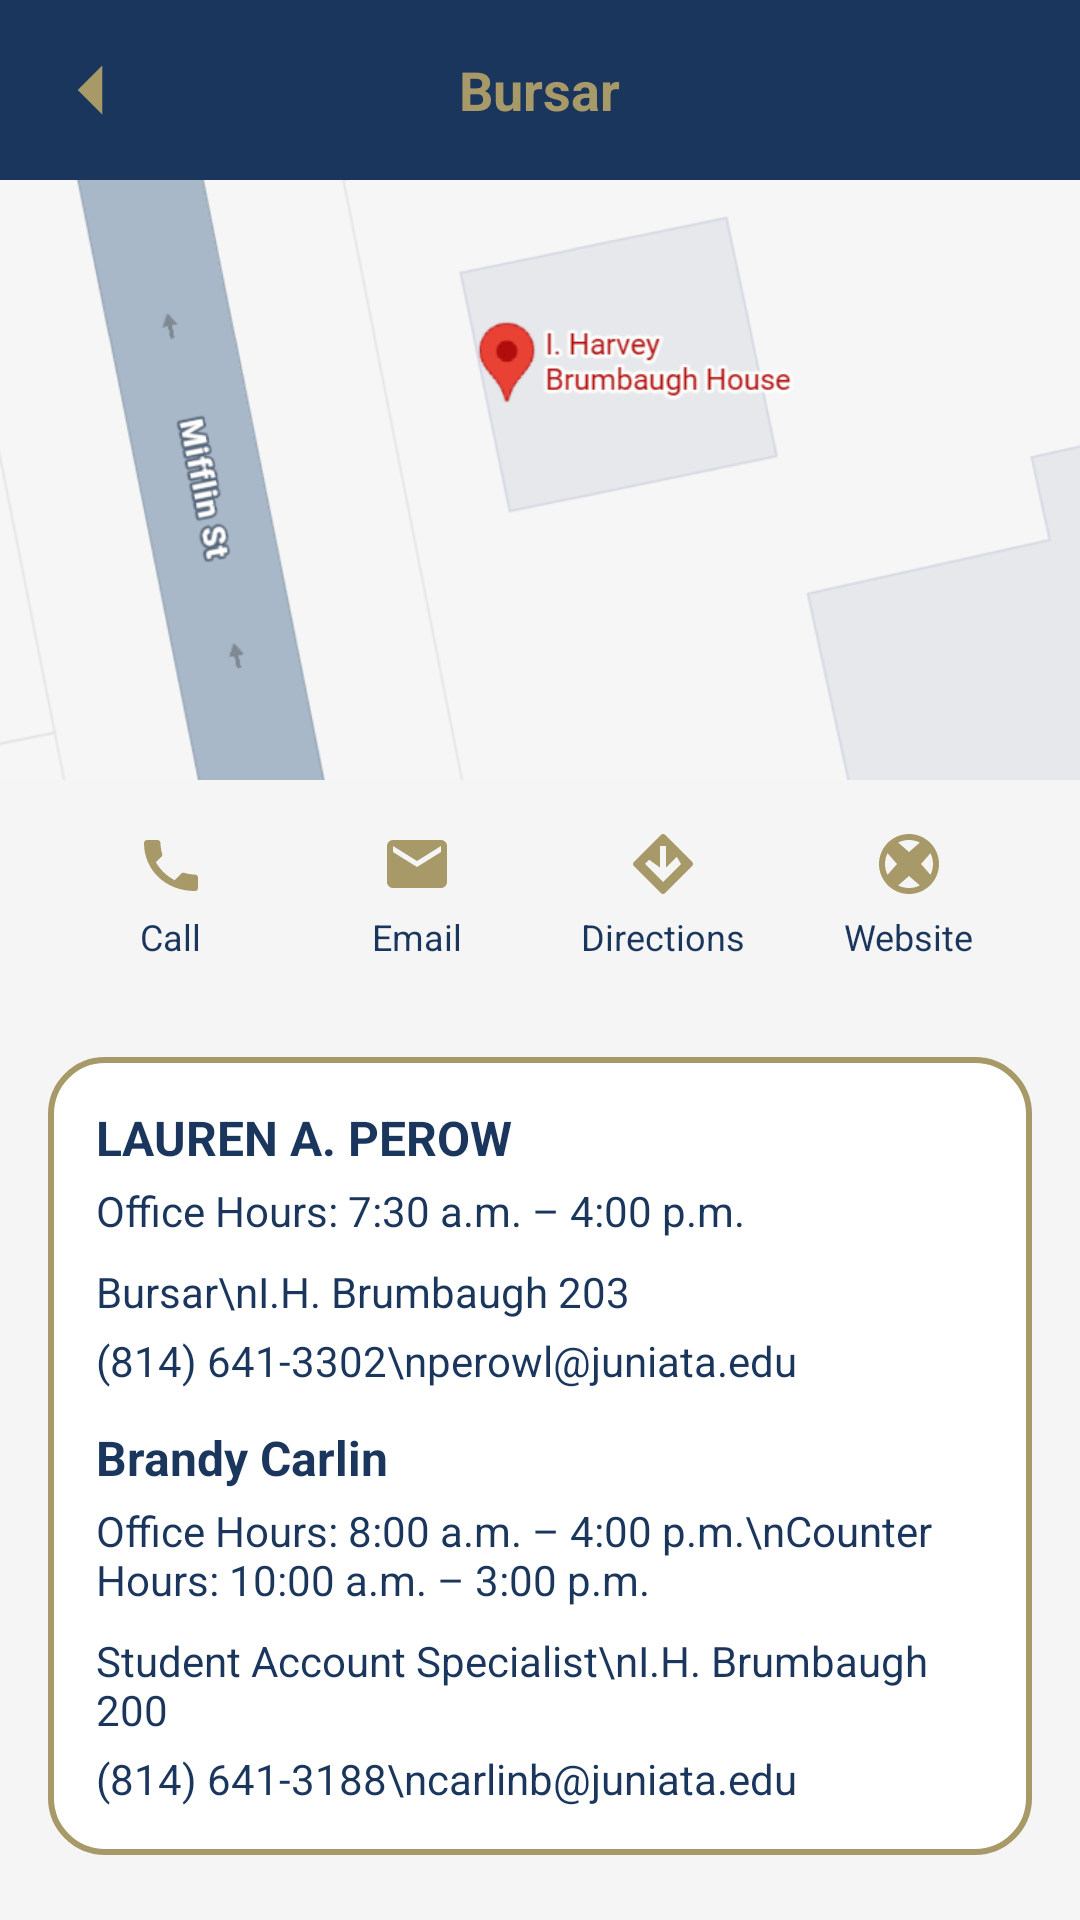

Named icons in this screenshot (1080x1920) and their centers, [x,y]:
back: [90,90]
